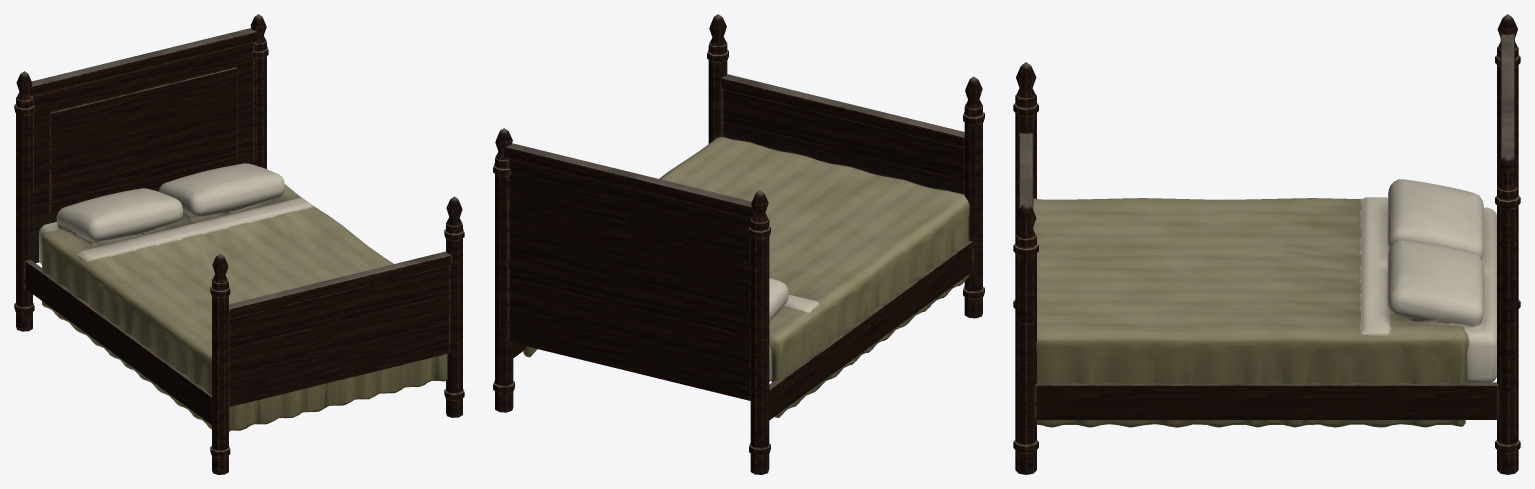
The model's file is bed_double.glb.
3 views of the same model, side by side, from view 1: azimuth 30°, elevation 25°; view 2: azimuth 150°, elevation 25°; view 3: azimuth 270°, elevation 25° (orthographic). The views are drawn at different scales.
Visible parts, largest first — view 1: bed_double; view 2: bed_double; view 3: bed_double.
Part boxes in pixels (x1,y1,x2,y2): bed_double: [14, 14, 464, 474]; bed_double: [493, 14, 984, 474]; bed_double: [1013, 14, 1520, 474].
Bounding box in the file's own units: 1.49 × 1.45 × 2.11.
1 material, 1 textured.
